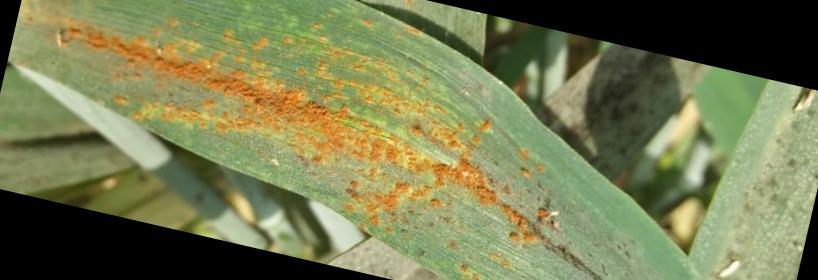Wheat: (345, 57, 580, 280), (50, 24, 361, 175)
